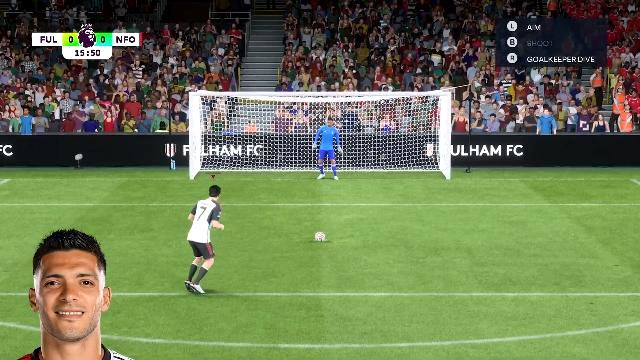bottom-left: (193, 139, 273, 180)
bottom-right: (372, 139, 446, 180)
center-down: (275, 140, 371, 180)
center-up: (275, 96, 371, 138)
circle: (314, 240, 326, 240)
football: (314, 232, 326, 240)
goalkeeper: (312, 117, 342, 180)
player: (182, 185, 225, 297)
top-left: (193, 96, 274, 138)
top-right: (372, 96, 446, 138)
